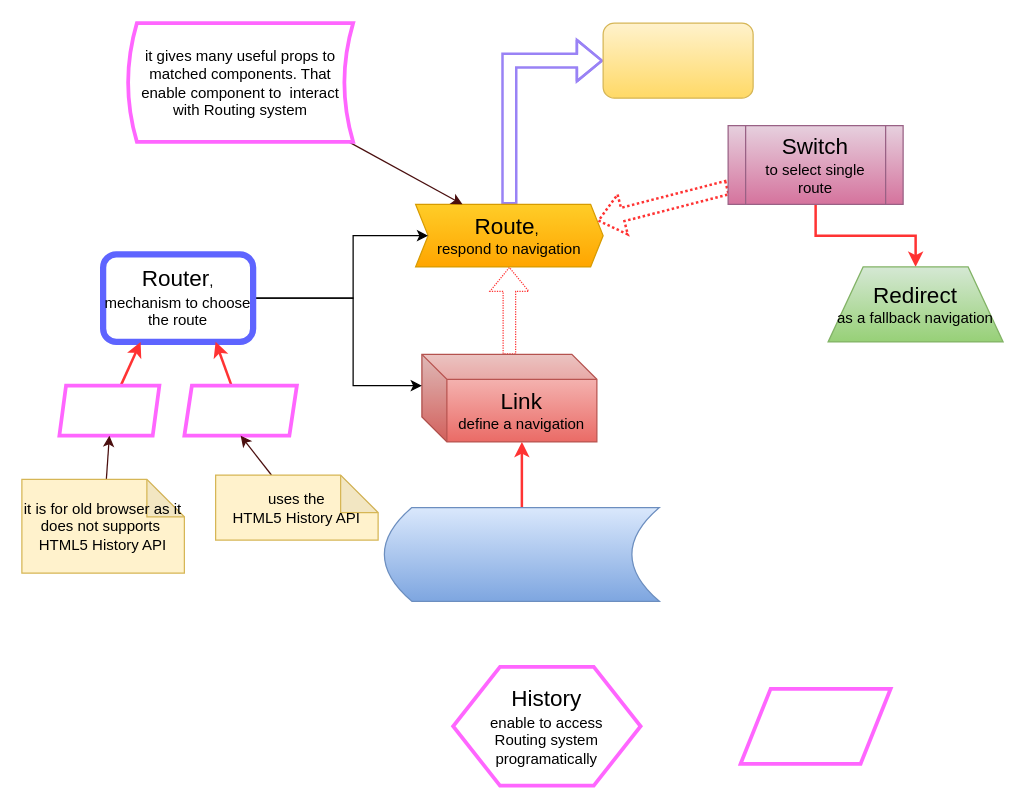
This 1025x809 diagram has some shape labels left out. The shapes that lost their labels are listed below. From the top down, each one's box as (x1, y1, x2, y2) in pixels, then its label:
(602, 22, 753, 98): Component
(57, 383, 161, 437): HashRouter
(182, 383, 298, 437): BrowserRouter
(383, 506, 659, 601): NavLink represent current navigation it is just extend Link compoenent
(738, 686, 892, 765): Prompt
